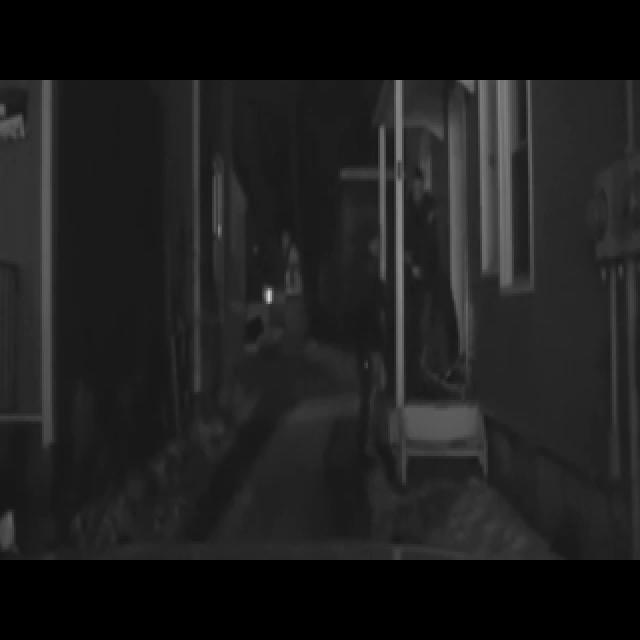shooting: (352, 71, 561, 472)
